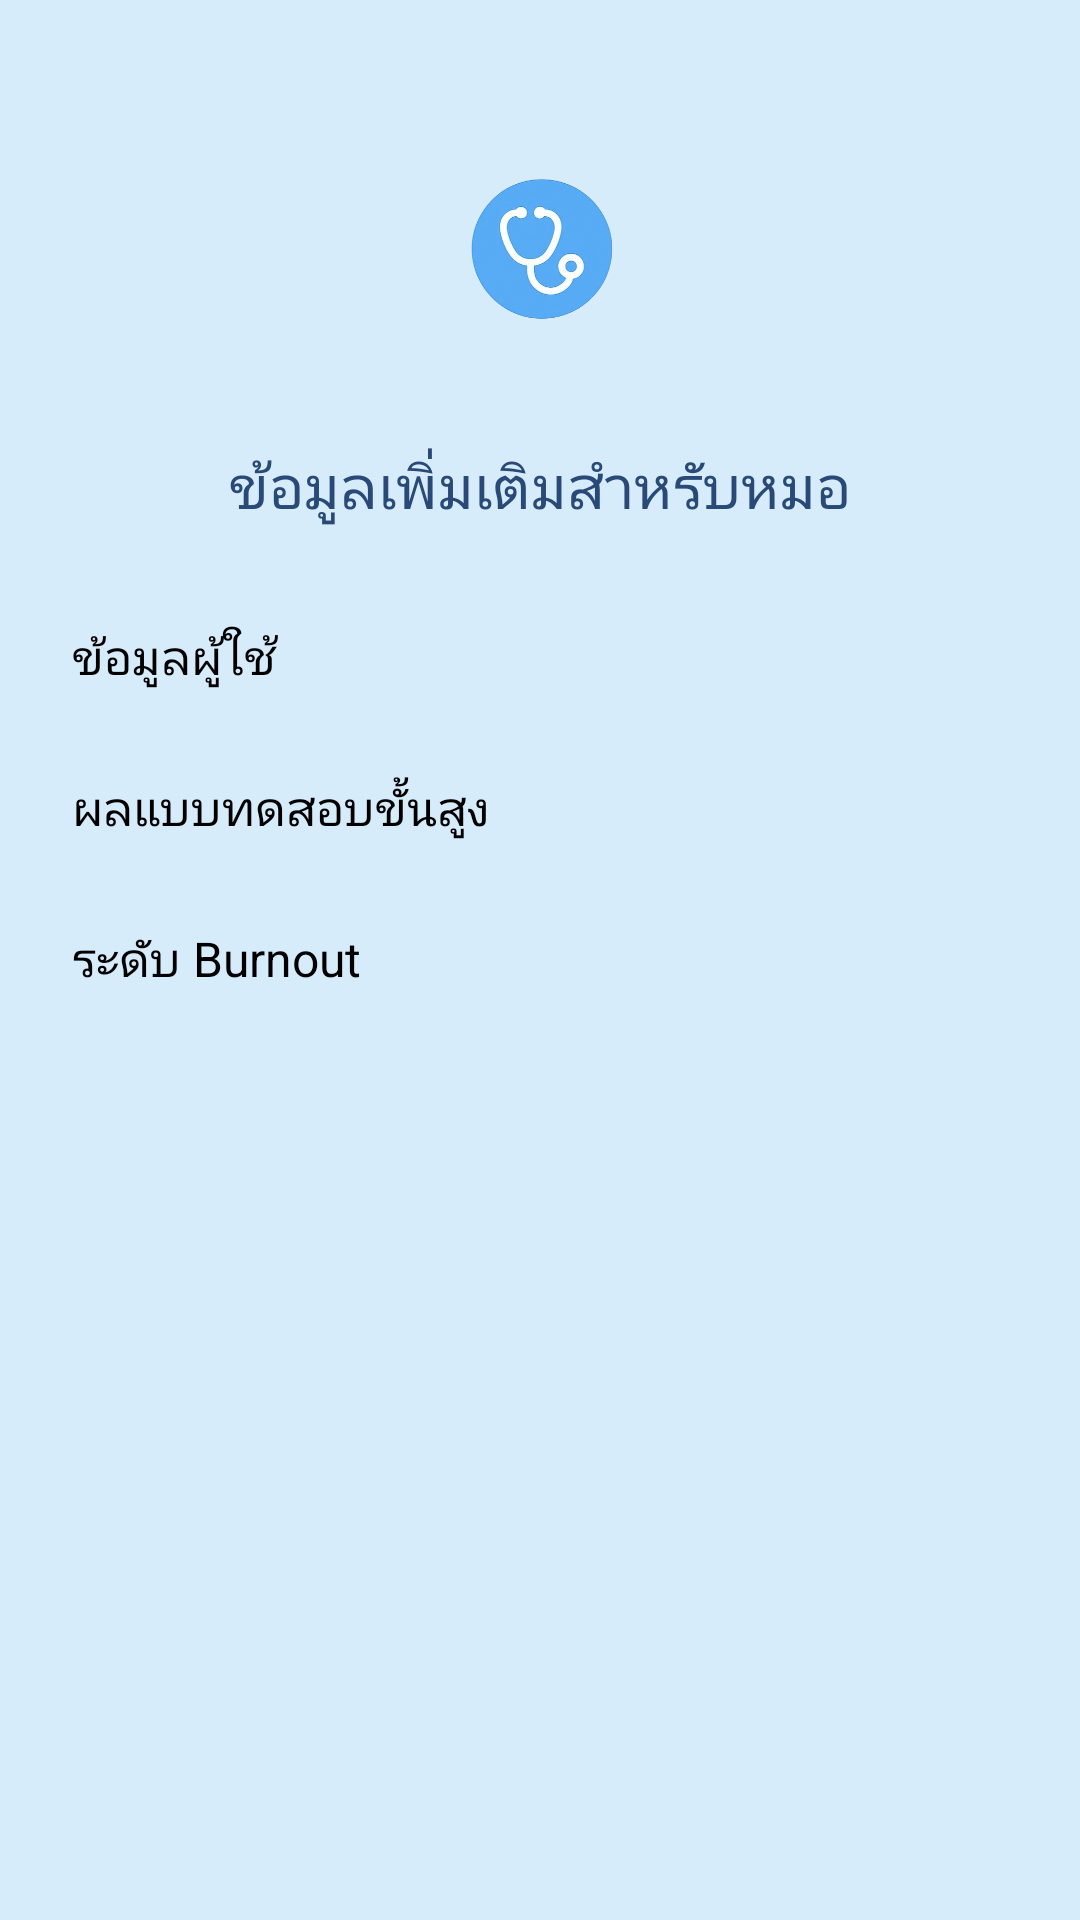

Point at icon controls on the screen. Image size 1080px x 1920px, points as point (x, y).
Stethoscope Icon: point (541, 249)
